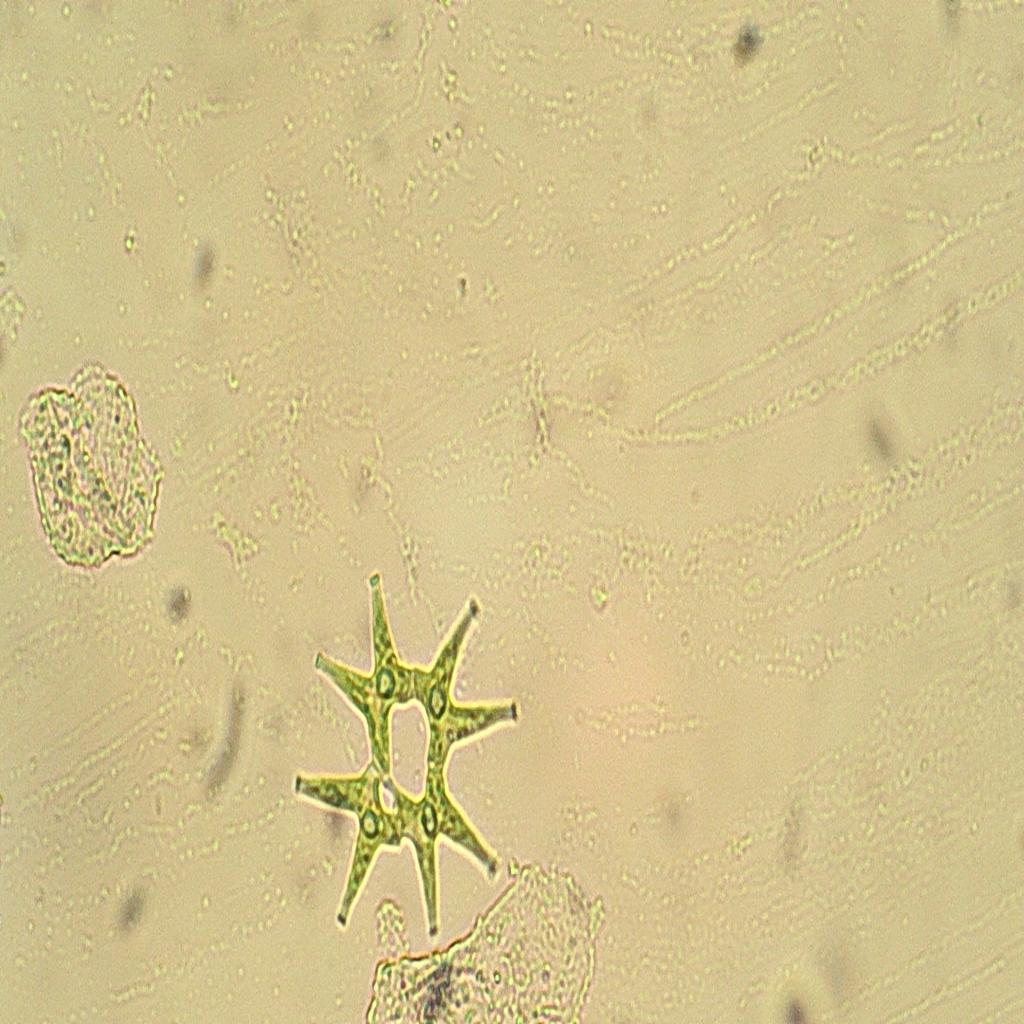Pediastrum_75FO: (284, 519, 529, 984)
